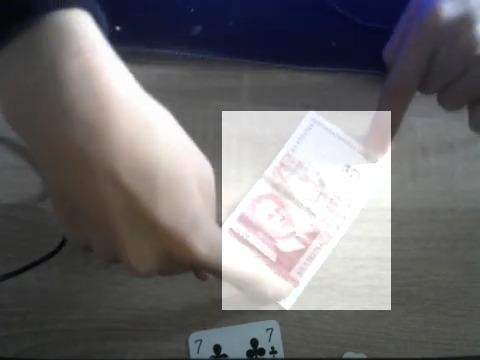5leva: (222, 111, 391, 310)
